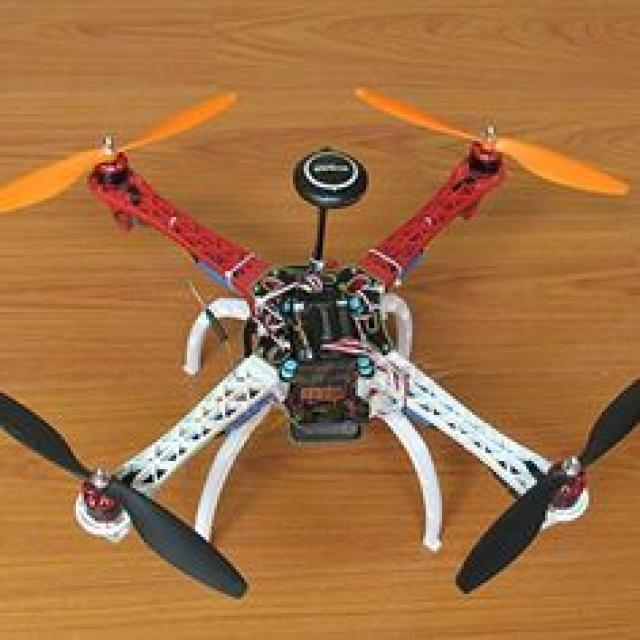drone: (0, 76, 640, 600)
